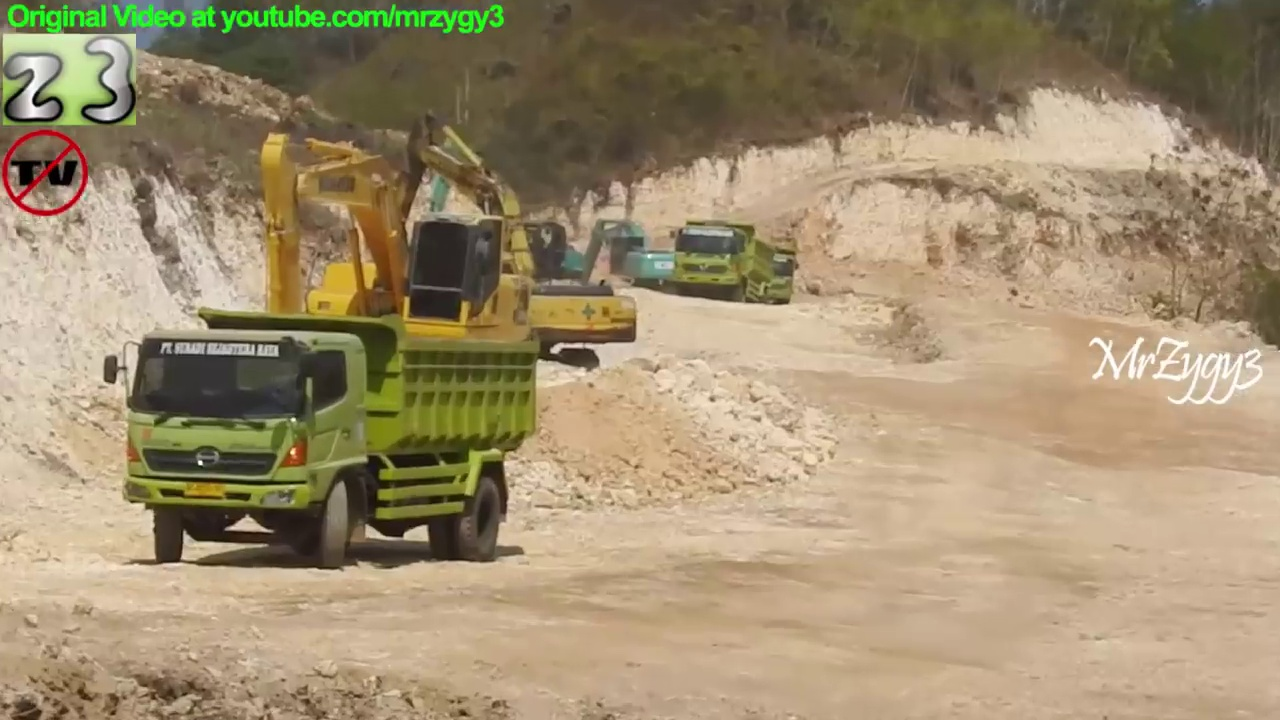excavator: (219, 128, 538, 417), (360, 112, 643, 382), (407, 128, 588, 307), (579, 212, 684, 300)
truck: (99, 303, 544, 568), (667, 214, 775, 310), (724, 230, 805, 312)
